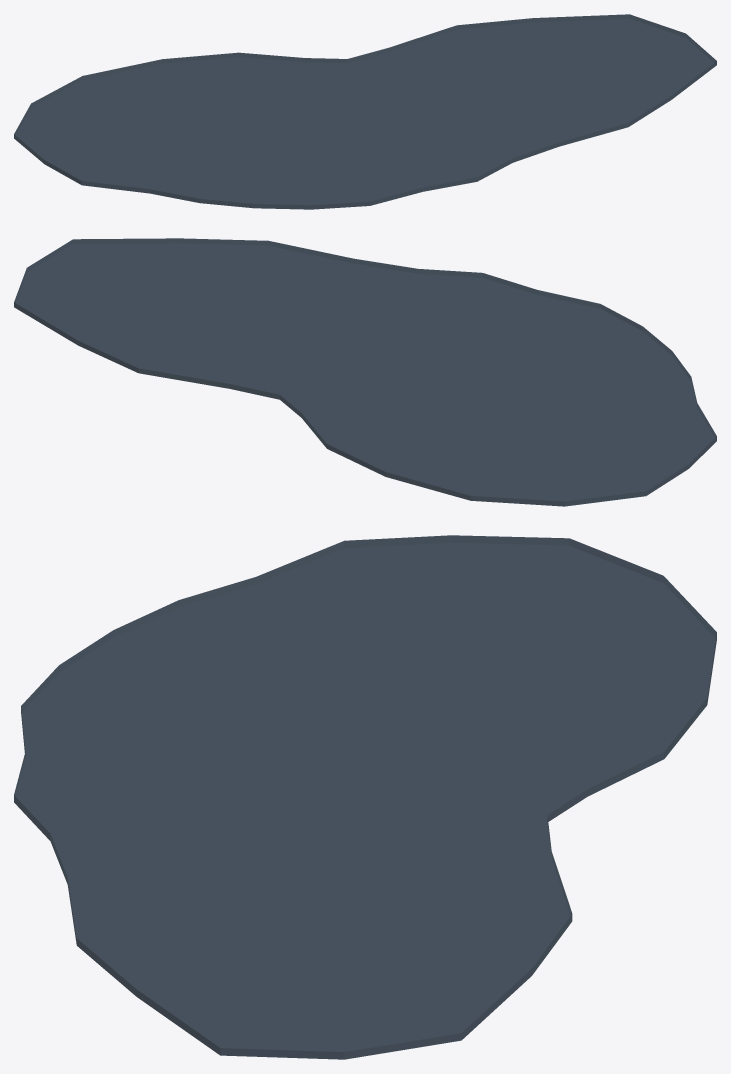
The model's file is puddle.glb.
3 views of the same model, one above another, from view 1: azimuth 30°, elevation 25°; view 2: azimuth 150°, elevation 25°; view 3: azimuth 270°, elevation 25° (orthographic). The views are drawn at different scales.
Visible parts, largest first — view 1: puddle; view 2: puddle; view 3: puddle.
Part boxes in pixels (box(x1,y1,x2,y2)): puddle: box(14, 14, 716, 209); puddle: box(14, 238, 716, 506); puddle: box(14, 535, 716, 1059).
Size of the model in its own units: 0.7326 by 0.005 by 0.4211.
